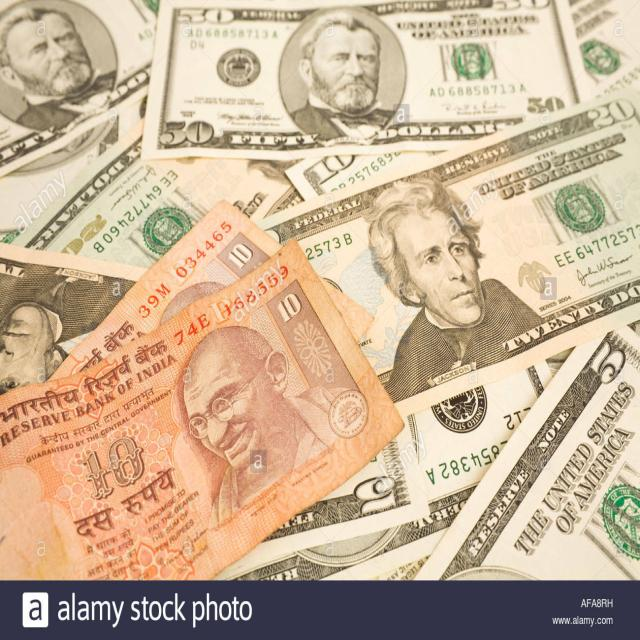10IndianRupees: (0, 237, 398, 575)
